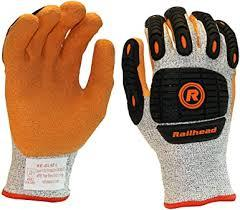gloves: (121, 6, 240, 209), (1, 1, 116, 204)
